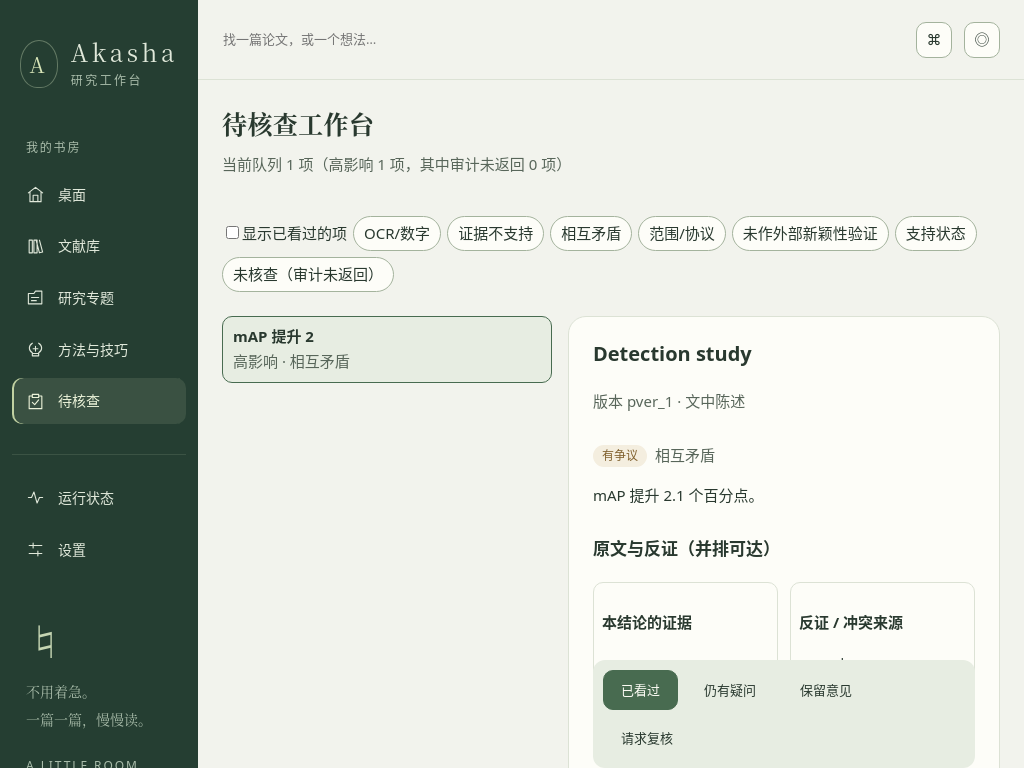
Test: UX-035 re-verification is accepted, not completed › reports a failed submission without changing anything
What coordinates should you click on to do the following:
click the button "请求复核"
I would click on:
 (647, 738)
Its box is [603,718,691,758].
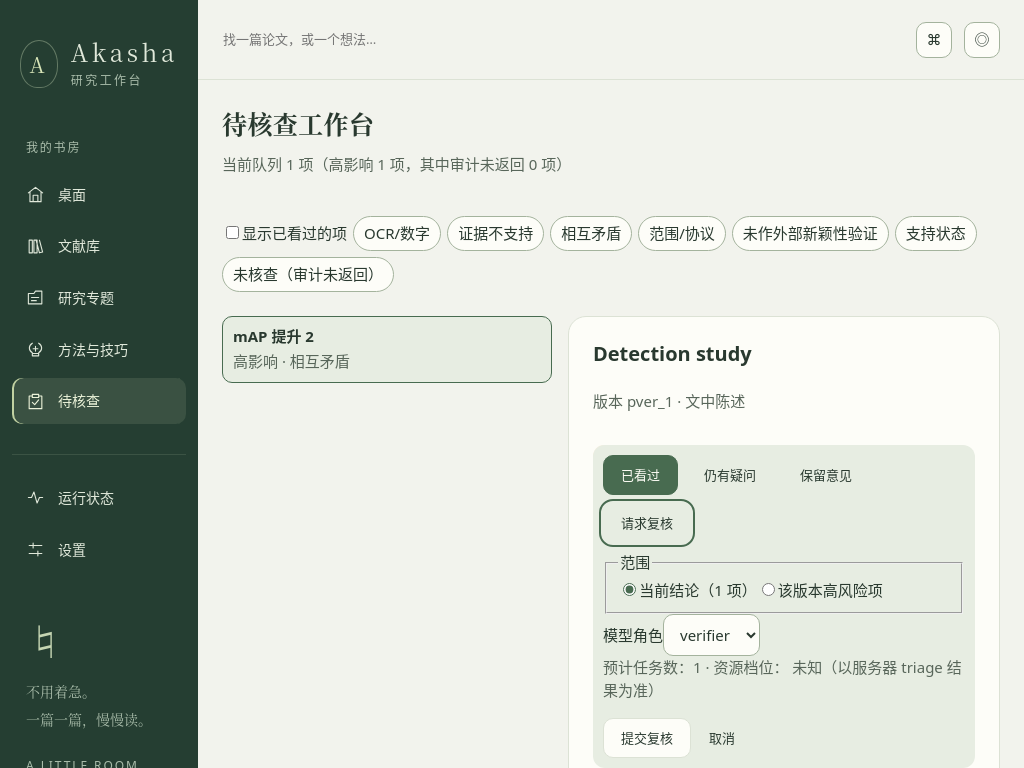
What coordinates should you click on to do the following:
click the button "提交复核"
I would click on:
 (647, 738)
Its box is [603,718,691,758].
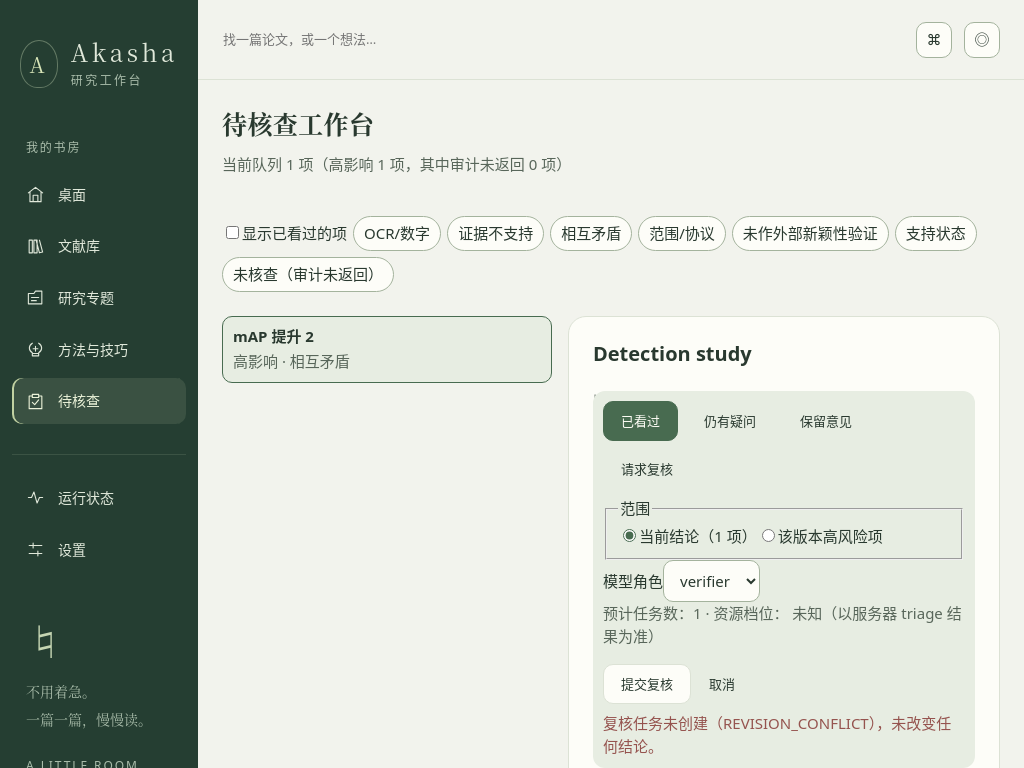
expect the message with test id "reverify-error" shows "REVISION_CONFLICT": met, box [723,712,869,732]
expect the message with test id "reverify-error" shows "未改变任何结论": met, box [603,712,951,756]
